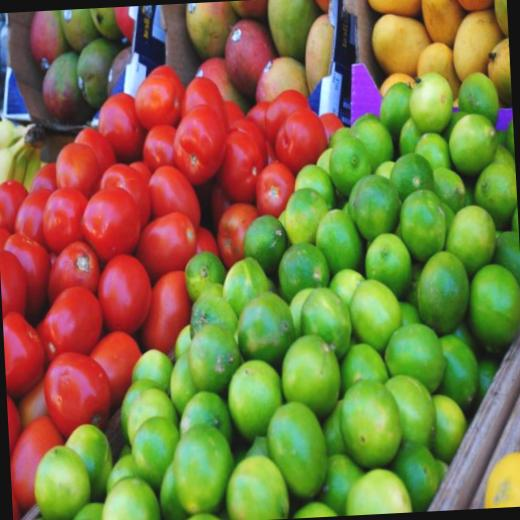Grape: (483, 452, 520, 508)
